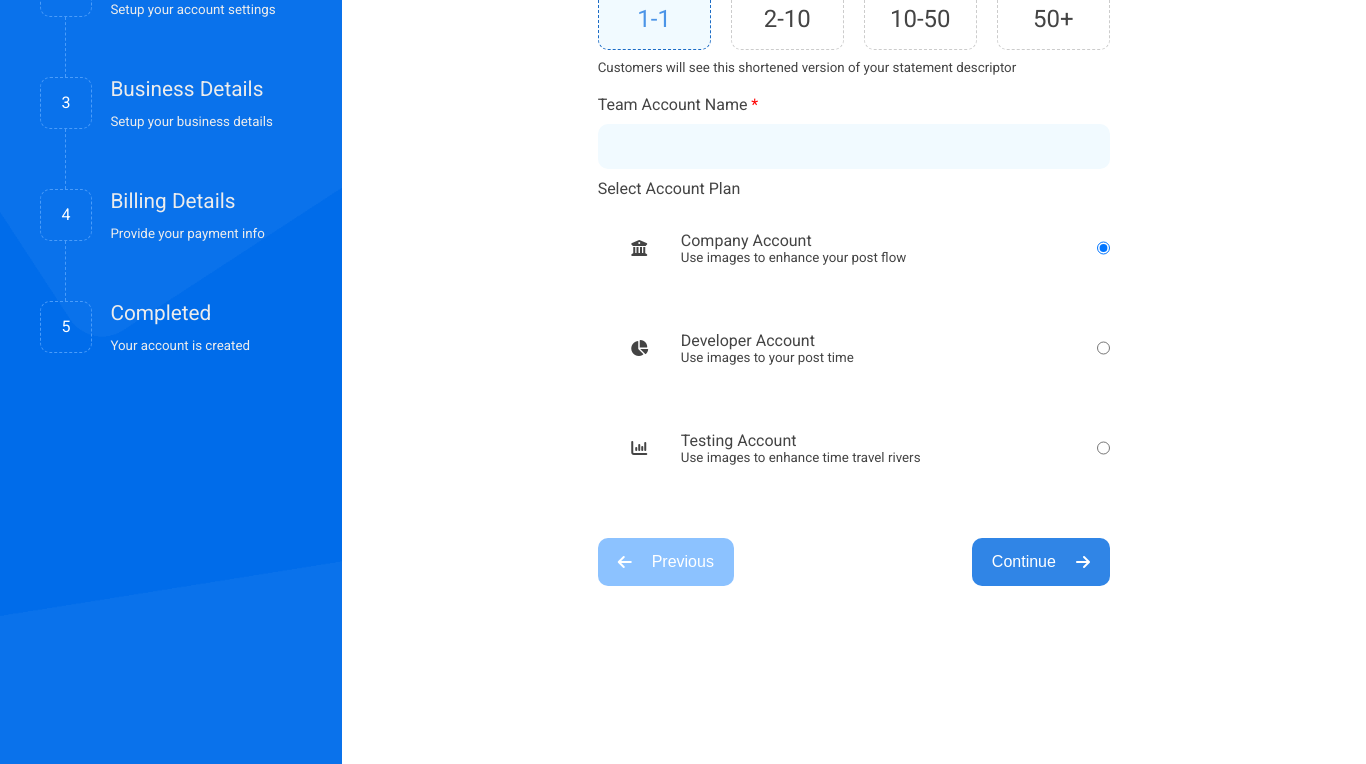
Test: <AccountInfo /> › Should display an error if Account Name's input is empty and I press 'Continue'
(page scrolled)
Click the button with test id "actions-next-button".
click(1041, 562)  # box [972,538,1110,586]
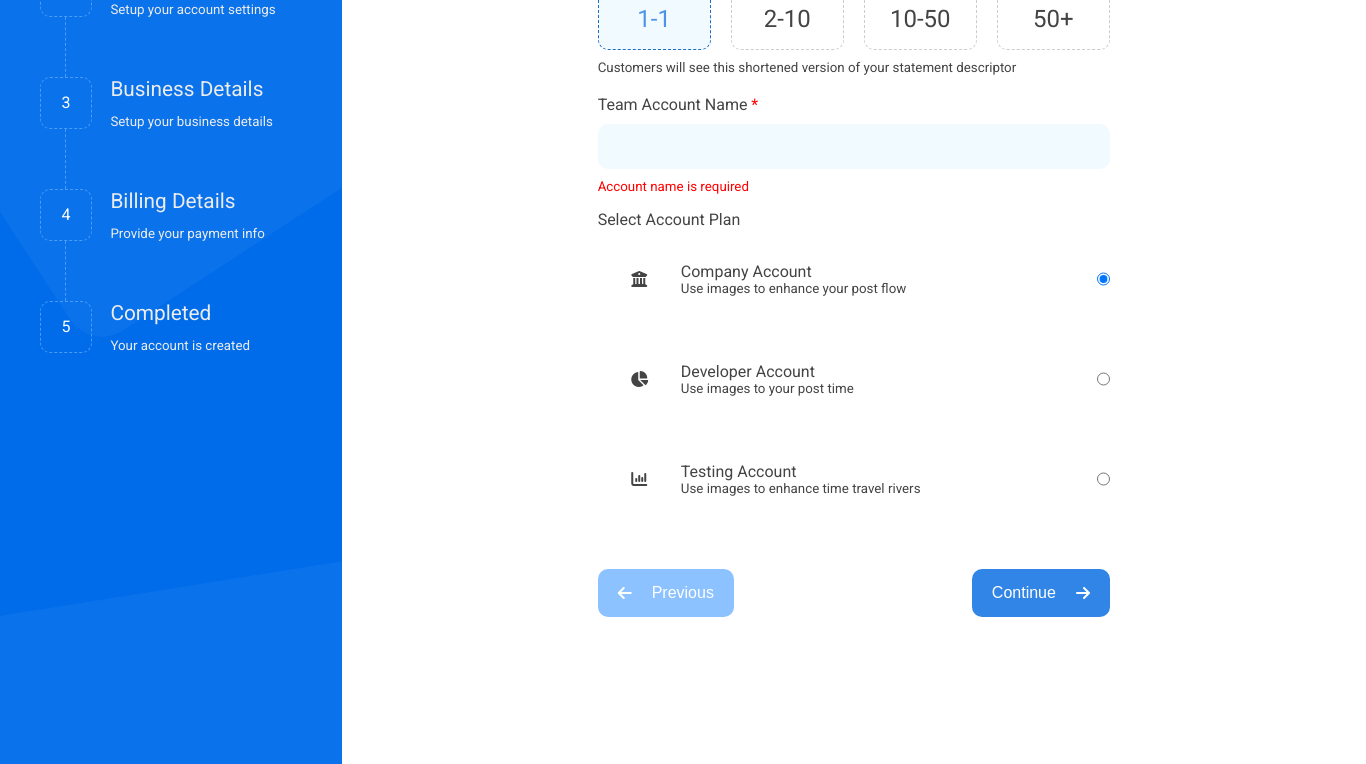
Expected: the button with test id "actions-next-button" is shown, [972,569,1110,617]
Expected: the text "Account name is required" is shown, [598,179,749,194]
